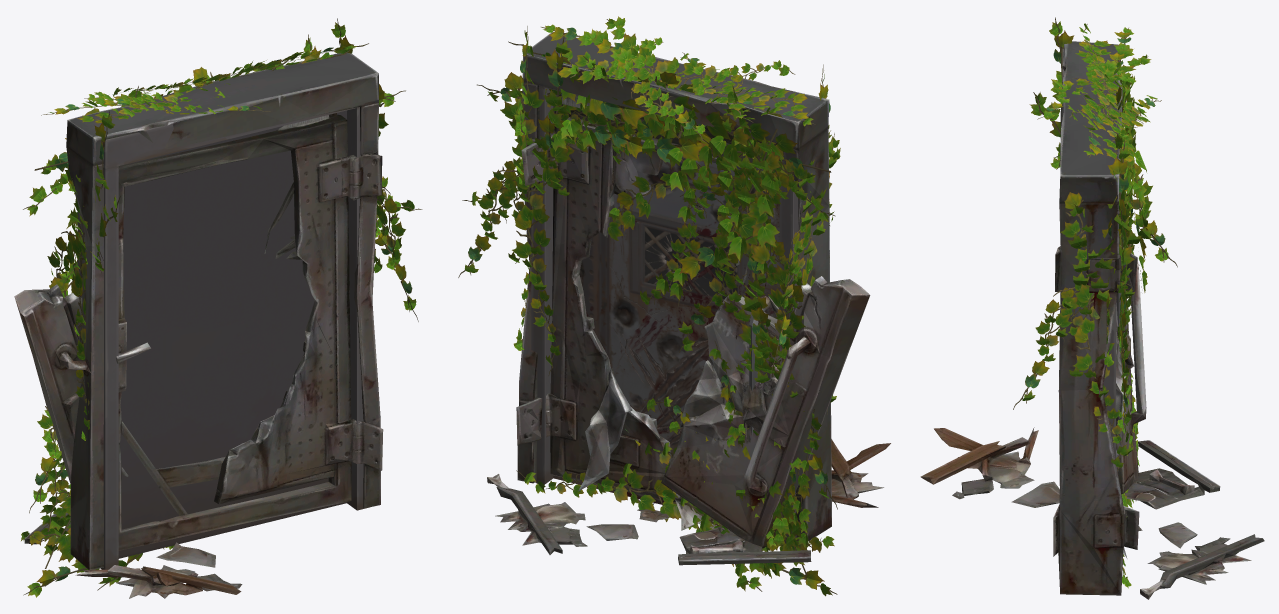
Rendered from P_Modify_003_S1_M01.obj.
3 renders of one model, left to right at view 1: azimuth 30°, elevation 25°; view 2: azimuth 150°, elevation 25°; view 3: azimuth 270°, elevation 25°, orthographic. The views are drawn at different scales.
Size of the model in its own units: 3.1 by 3.81 by 2.33.
16 materials, 16 textured.
